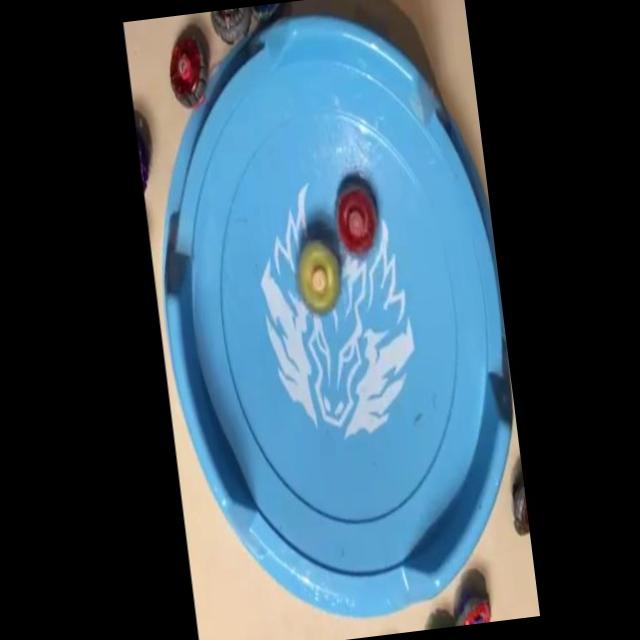Beyblade: (292, 237, 344, 317), (164, 30, 213, 110), (332, 184, 381, 257)
